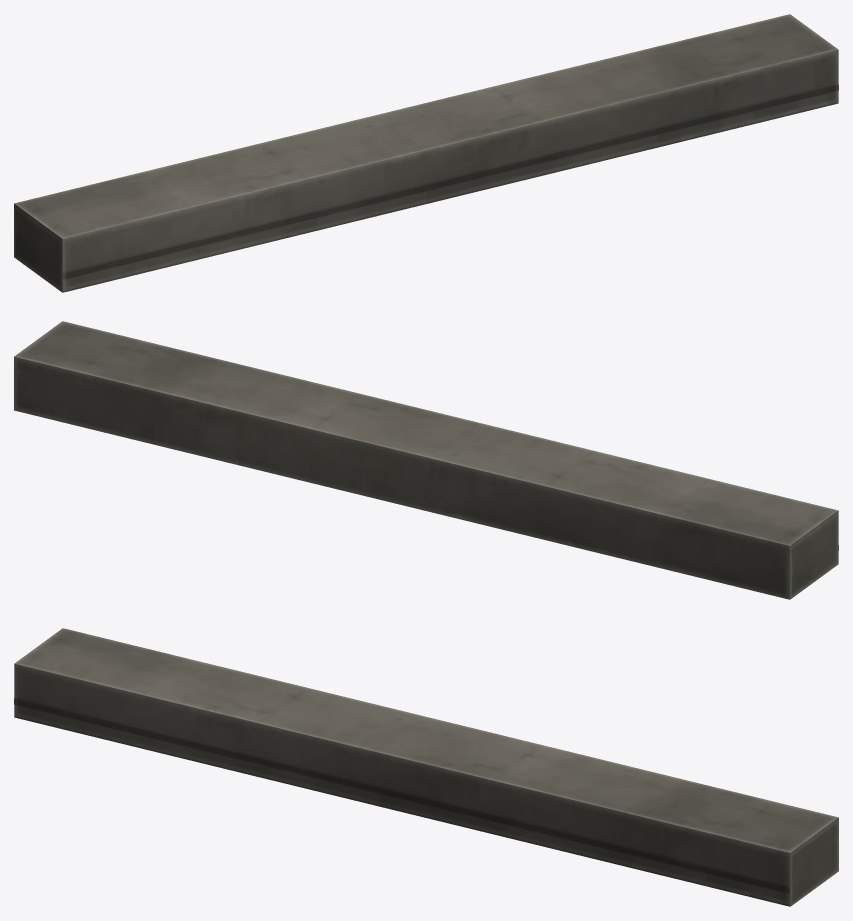
File: pier_beam.glb
3 views of the same model, one above another, from view 1: azimuth 30°, elevation 25°; view 2: azimuth 150°, elevation 25°; view 3: azimuth 330°, elevation 25° (orthographic).
Parts seen in each view (by area): view 1: te_pier_beam; view 2: te_pier_beam; view 3: te_pier_beam.
Part boxes in pixels (x1,y1,x2,y2): te_pier_beam: (14,14,838,292); te_pier_beam: (14,321,838,599); te_pier_beam: (14,628,838,906).
Size of the model in its own units: 0.83 by 0.055 by 0.0906.
Materials: 1 (1 with a texture image).
